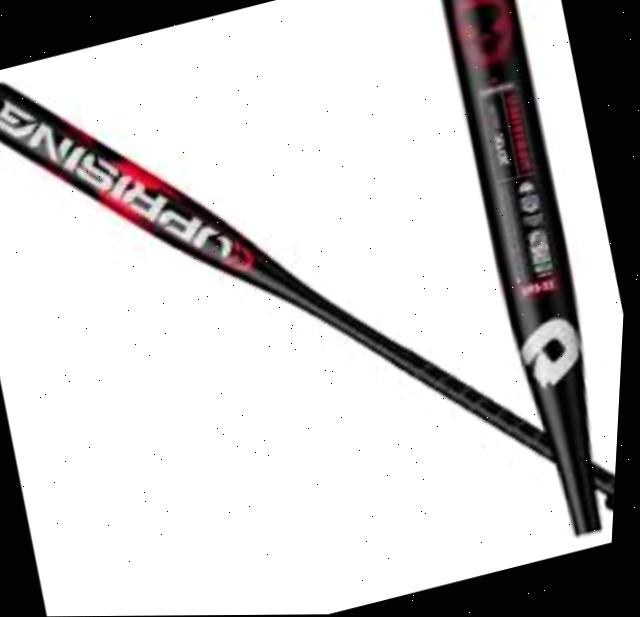baseball bat: (0, 79, 621, 514), (426, 0, 617, 534)
